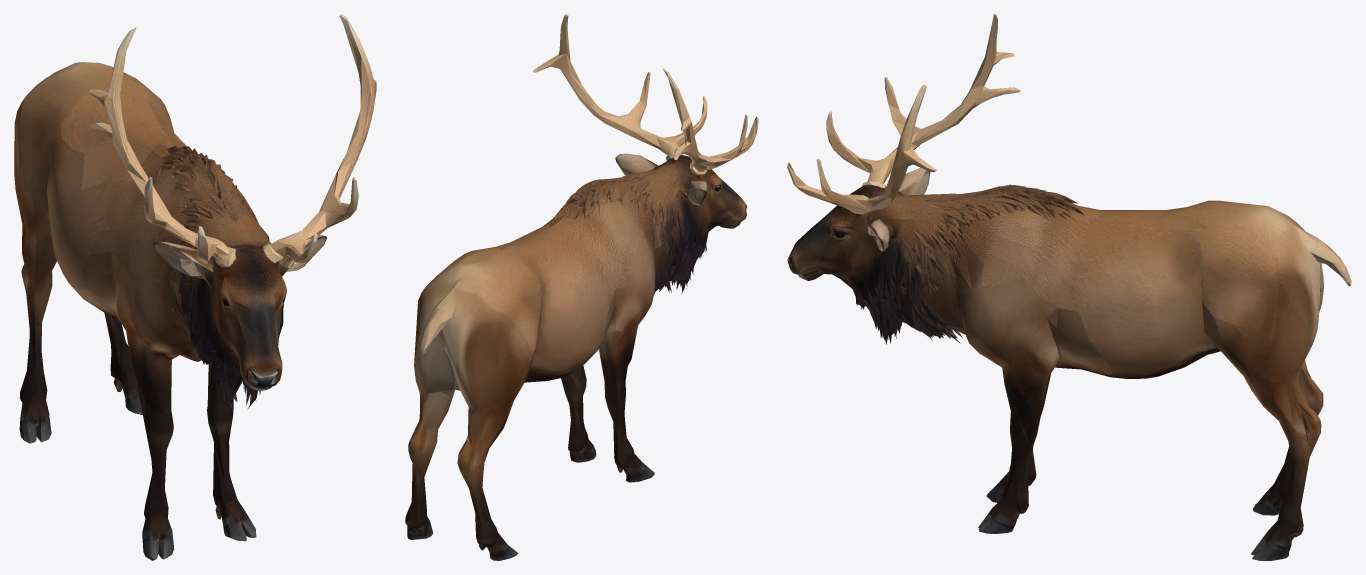
Rendered from alce.glb.
3 views of the same model, side by side, from view 1: azimuth 30°, elevation 25°; view 2: azimuth 150°, elevation 25°; view 3: azimuth 270°, elevation 25° (orthographic). The views are drawn at different scales.
Bounding box in the file's own units: 0.8711 × 1.76 × 1.9.
Materials: 1 (1 with a texture image).
